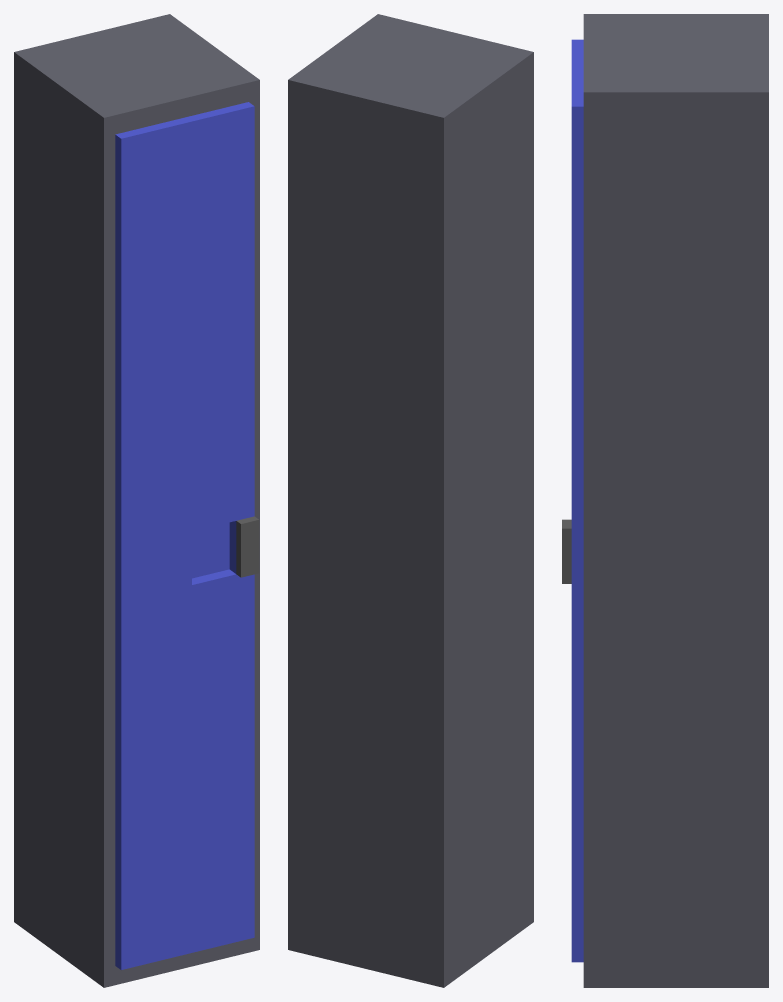
Rendered from Locker.fbx.
3 views of the same model, side by side, from view 1: azimuth 30°, elevation 25°; view 2: azimuth 150°, elevation 25°; view 3: azimuth 270°, elevation 25° (orthographic). The views are drawn at different scales.
Visible parts, largest first — view 1: Locker; view 2: Locker; view 3: Locker.
Boxes of the visible parts, x1,y1,x2,y2 form: Locker: (14, 14, 259, 987); Locker: (288, 14, 533, 987); Locker: (562, 14, 768, 987).
Bounding box in the file's own units: 30 × 160 × 33.5.
